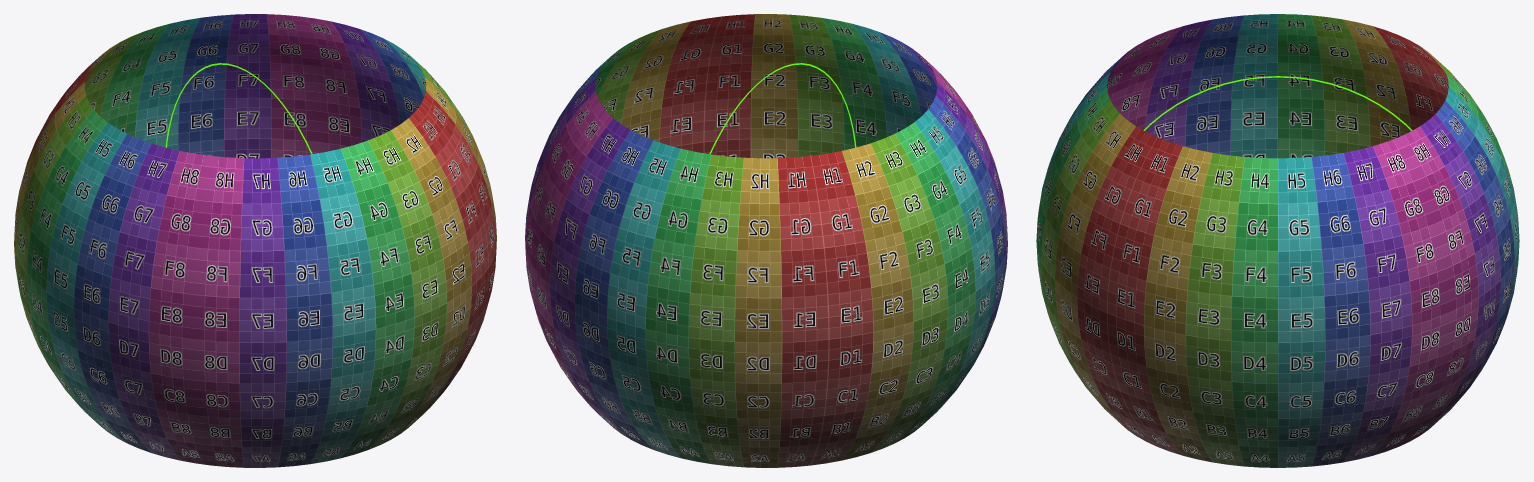
File: lobby.glb
The picture shows the model from 3 angles, left to right: view 1: azimuth 30°, elevation 25°; view 2: azimuth 150°, elevation 25°; view 3: azimuth 270°, elevation 25°; orthographic projection.
Visible parts, largest first — view 1: __DOME__; view 2: __DOME__; view 3: __DOME__, __WORLD_RING_M__.
Boxes of the visible parts, box(x1,y1,x2,y2) form: __DOME__: box(14, 14, 496, 467); __DOME__: box(525, 14, 1007, 467); __DOME__: box(1036, 14, 1519, 467); __WORLD_RING_M__: box(1143, 76, 1412, 130).
Size of what is drawn, in the model's own units: 400 by 301 by 400.
18 materials, 4 textured.
